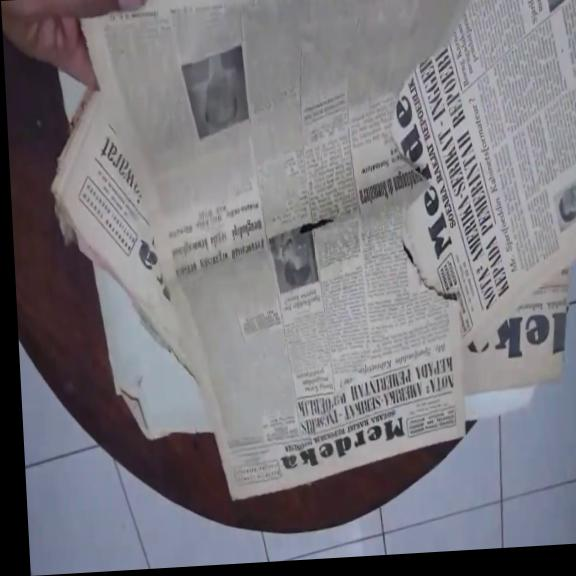Kertas: (70, 0, 470, 512), (381, 0, 576, 361)
